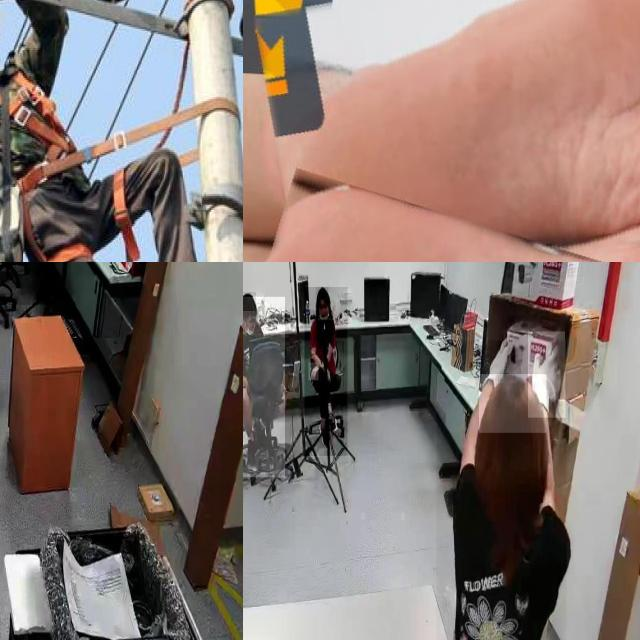Barefoots: (279, 0, 640, 237)
Harness: (7, 71, 92, 192)
face_nomask: (318, 301, 328, 318)
hand_glove: (528, 332, 566, 418), (486, 327, 516, 391)
hand_noglove: (309, 363, 319, 381), (323, 365, 331, 386)
head_nohelmet: (479, 374, 547, 434), (243, 292, 256, 311), (315, 287, 329, 299)
person: (436, 340, 567, 640), (243, 296, 285, 478), (304, 287, 348, 457)
